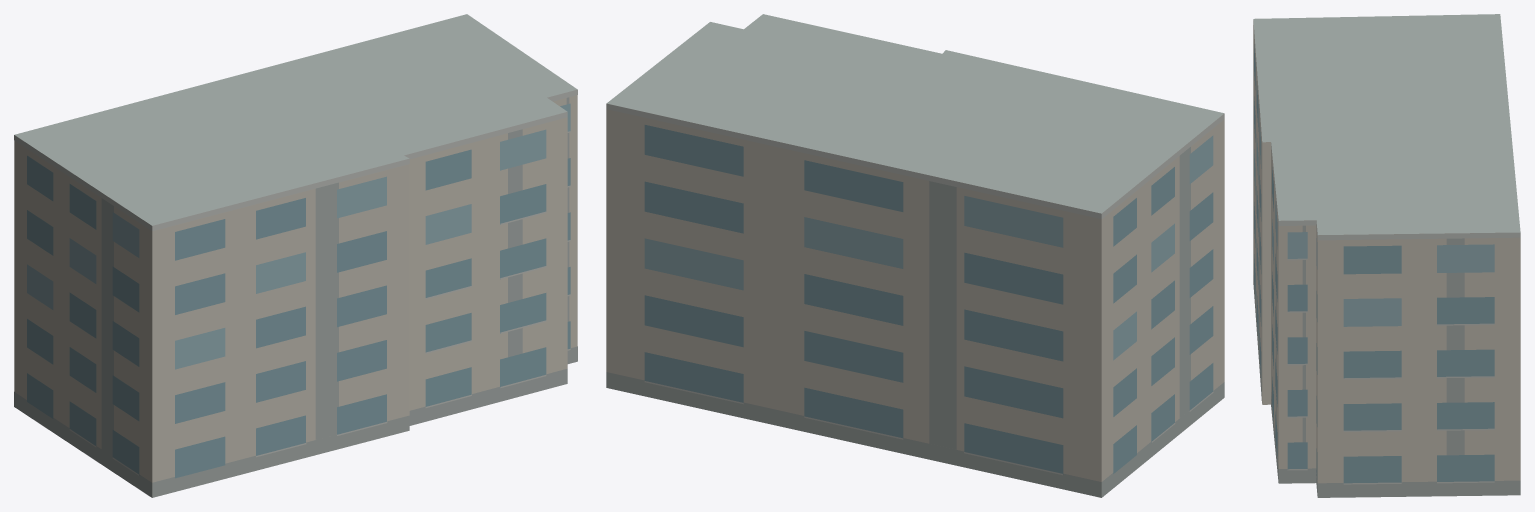
The model's file is survey-upis-32810546.glb.
3 views of the same model, side by side, from view 1: azimuth 30°, elevation 25°; view 2: azimuth 150°, elevation 25°; view 3: azimuth 270°, elevation 25° (orthographic). The views are drawn at different scales.
Visible parts, largest first — view 1: survey-upis-32810546.tmp; view 2: survey-upis-32810546.tmp; view 3: survey-upis-32810546.tmp.
Part boxes in pixels (bbox=[...]): survey-upis-32810546.tmp: bbox=[14, 14, 577, 497]; survey-upis-32810546.tmp: bbox=[606, 14, 1224, 497]; survey-upis-32810546.tmp: bbox=[1253, 14, 1520, 497].
Size of the model in its own units: 22.01 by 12.19 by 11.25.
